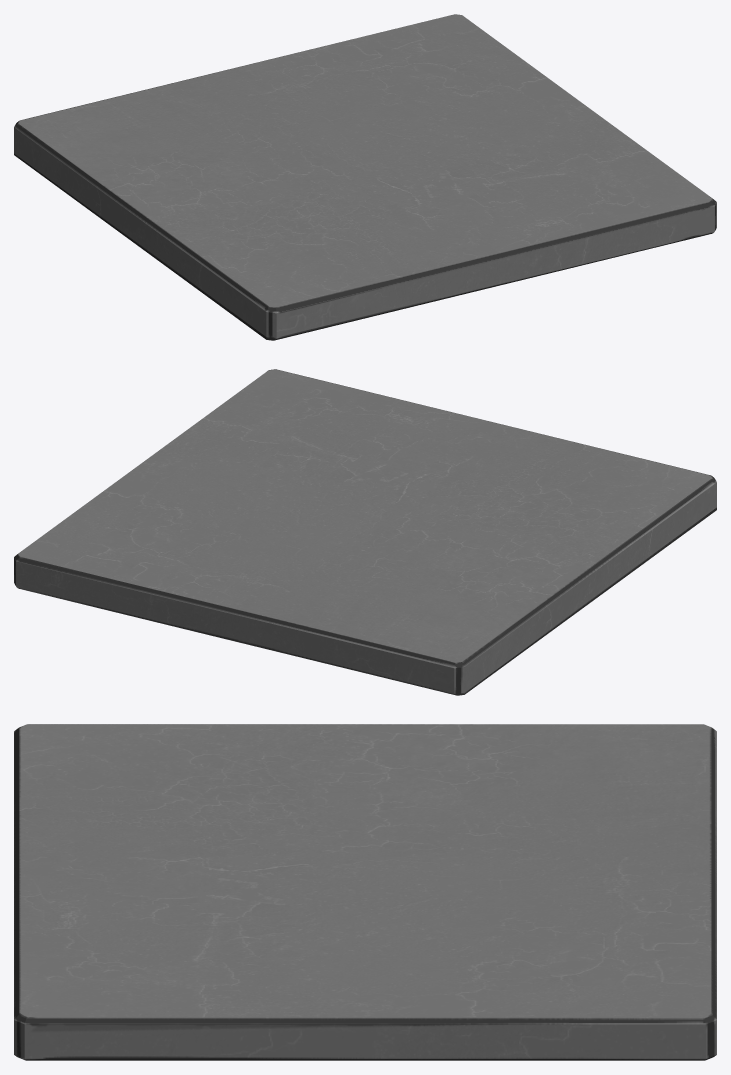
The model's file is cap.obj.
The picture shows the model from 3 angles, top to bottom: view 1: azimuth 30°, elevation 25°; view 2: azimuth 150°, elevation 25°; view 3: azimuth 270°, elevation 25°; orthographic projection. The views are drawn at different scales.
Visible parts, largest first — view 1: LayerBreak_LayerBreakSG; view 2: LayerBreak_LayerBreakSG; view 3: LayerBreak_LayerBreakSG.
Boxes of the visible parts, <box> form: LayerBreak_LayerBreakSG: <box>14,14,716,340</box>; LayerBreak_LayerBreakSG: <box>14,369,716,695</box>; LayerBreak_LayerBreakSG: <box>14,724,716,1060</box>.
Bounding box in the file's own units: 7.5 × 0.5 × 7.5.
1 material, 1 textured.
